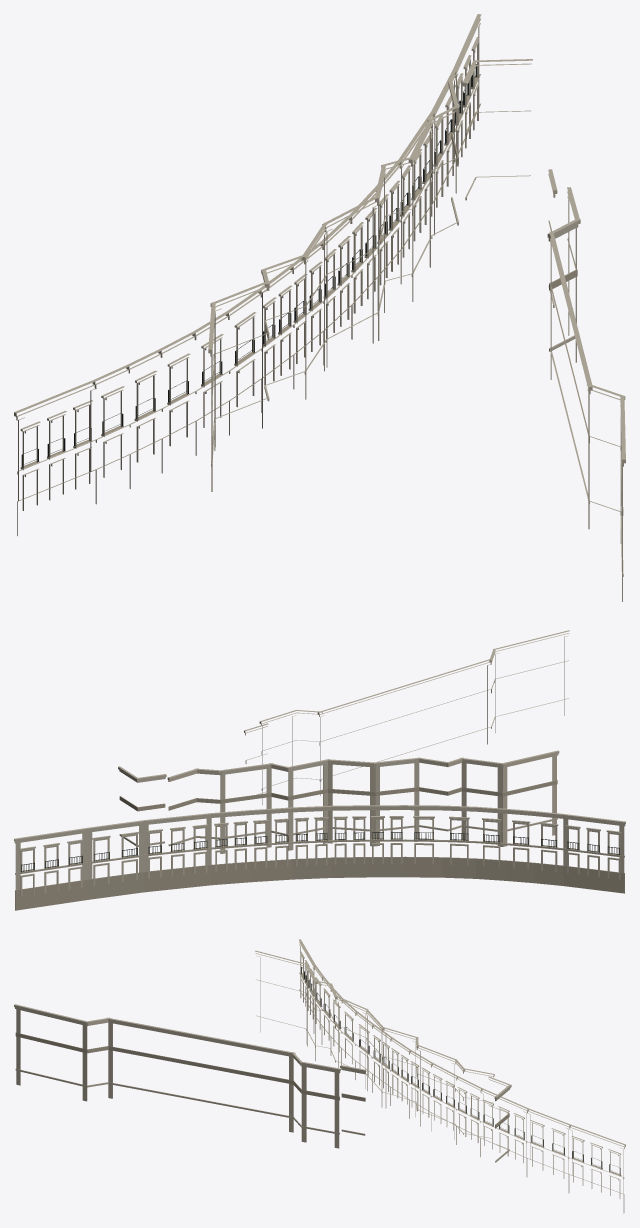
The picture shows the model from 3 angles, top to bottom: view 1: azimuth 30°, elevation 25°; view 2: azimuth 150°, elevation 25°; view 3: azimuth 270°, elevation 25°; orthographic projection. The views are drawn at different scales.
Parts seen in each view (by area): view 1: detail; view 2: detail; view 3: detail.
Boxes of the visible parts, bbox=[...] form: detail: bbox=[14, 14, 625, 601]; detail: bbox=[14, 630, 625, 910]; detail: bbox=[14, 939, 625, 1213].
Size of the model in its own units: 60.1 by 13.5 by 75.48.
